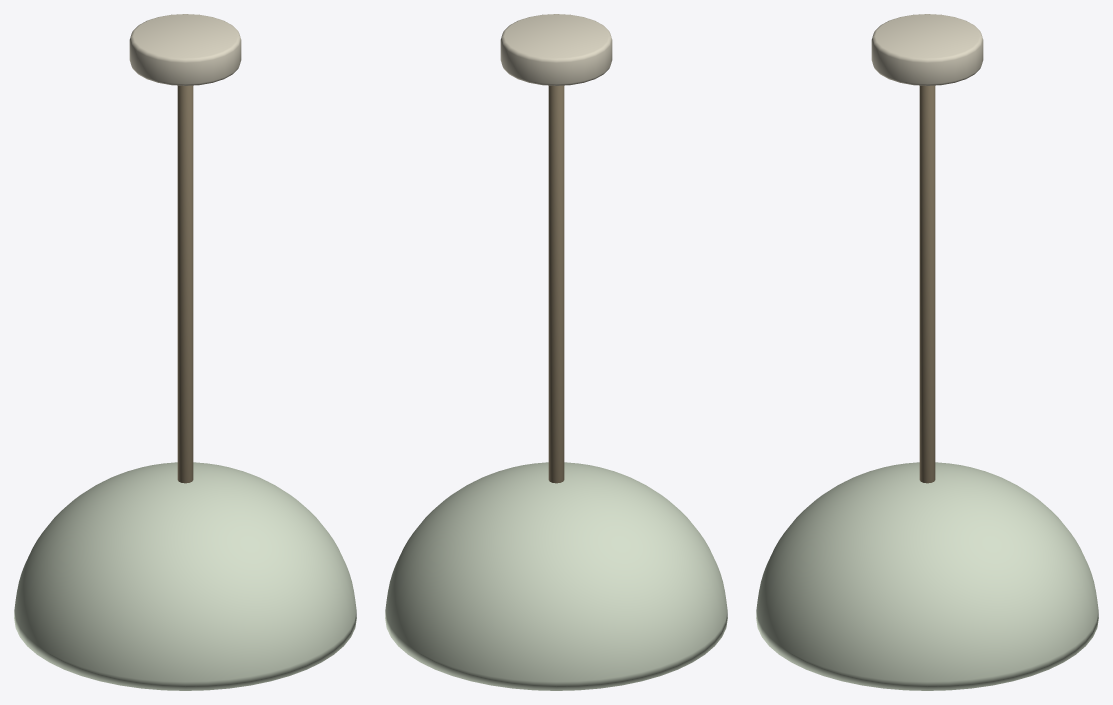
The model's file is dome-pendant.glb.
The picture shows the model from 3 angles, left to right: view 1: azimuth 30°, elevation 25°; view 2: azimuth 150°, elevation 25°; view 3: azimuth 270°, elevation 25°; orthographic projection.
Visible parts, largest first — view 1: catalog_surface_RealismUV, catalog_surface_UVMap; view 2: catalog_surface_RealismUV, catalog_surface_UVMap; view 3: catalog_surface_RealismUV, catalog_surface_UVMap.
Boxes of the visible parts, bbox=[...] form: catalog_surface_RealismUV: bbox=[14, 14, 356, 690]; catalog_surface_UVMap: bbox=[177, 85, 193, 483]; catalog_surface_RealismUV: bbox=[385, 14, 727, 690]; catalog_surface_UVMap: bbox=[548, 85, 564, 483]; catalog_surface_RealismUV: bbox=[756, 14, 1098, 690]; catalog_surface_UVMap: bbox=[919, 85, 935, 483].
Bounding box in the file's own units: 0.4 × 0.75 × 0.4.
